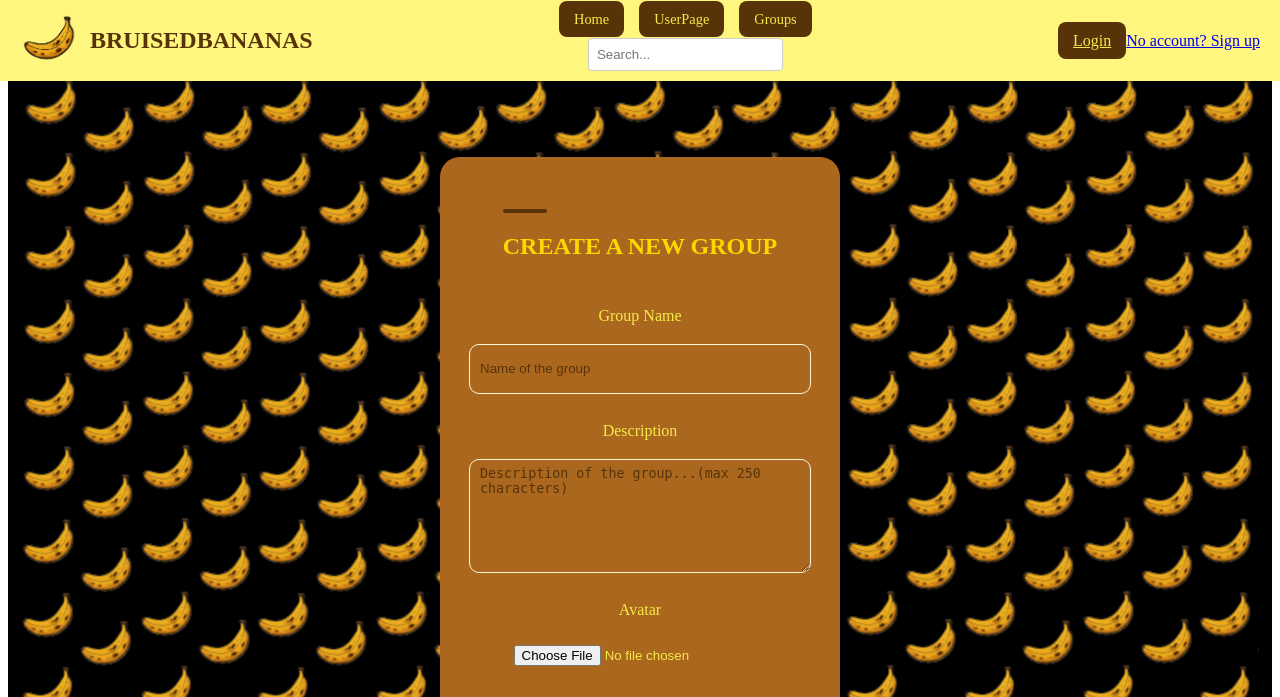
Scenario: CreateGroupPage component › handles fetch error
Step 1. Type "Test Group" into the field with placeholder "Name of the group" → (640, 369), box [469,344,811,394]
(page scrolled)
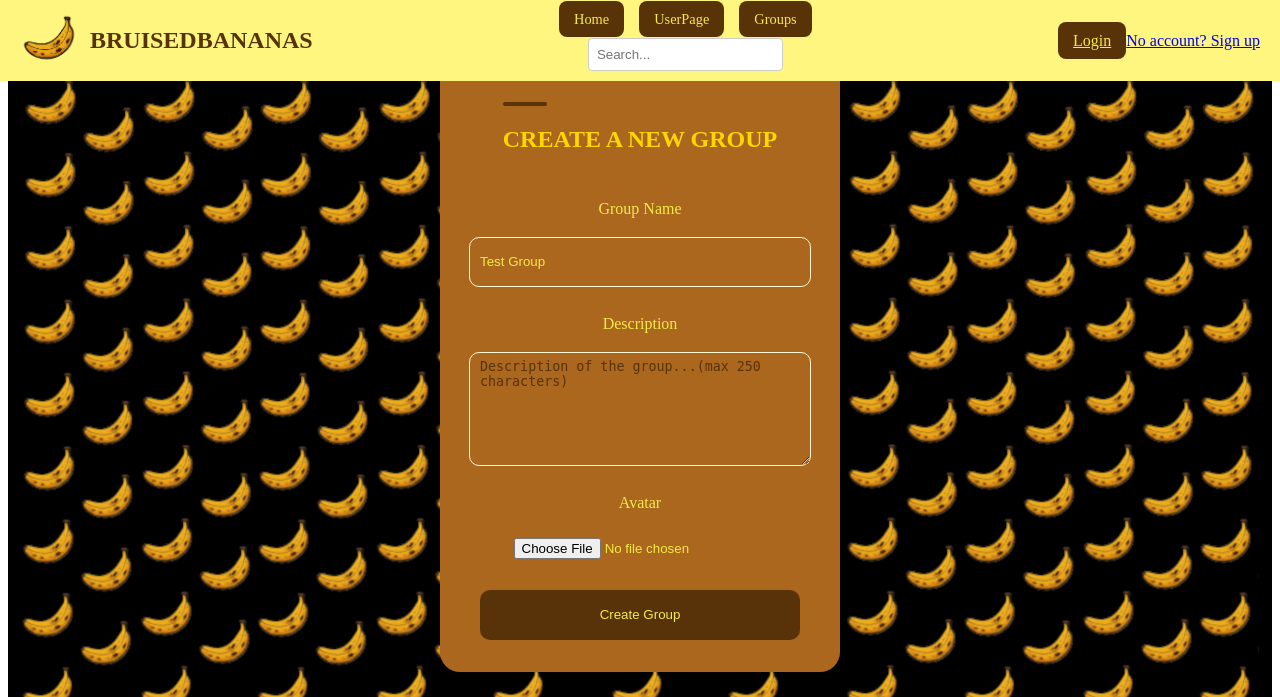
Step 2. Submit the form with class "create-group-form", box [440,50,840,672]
(page scrolled)
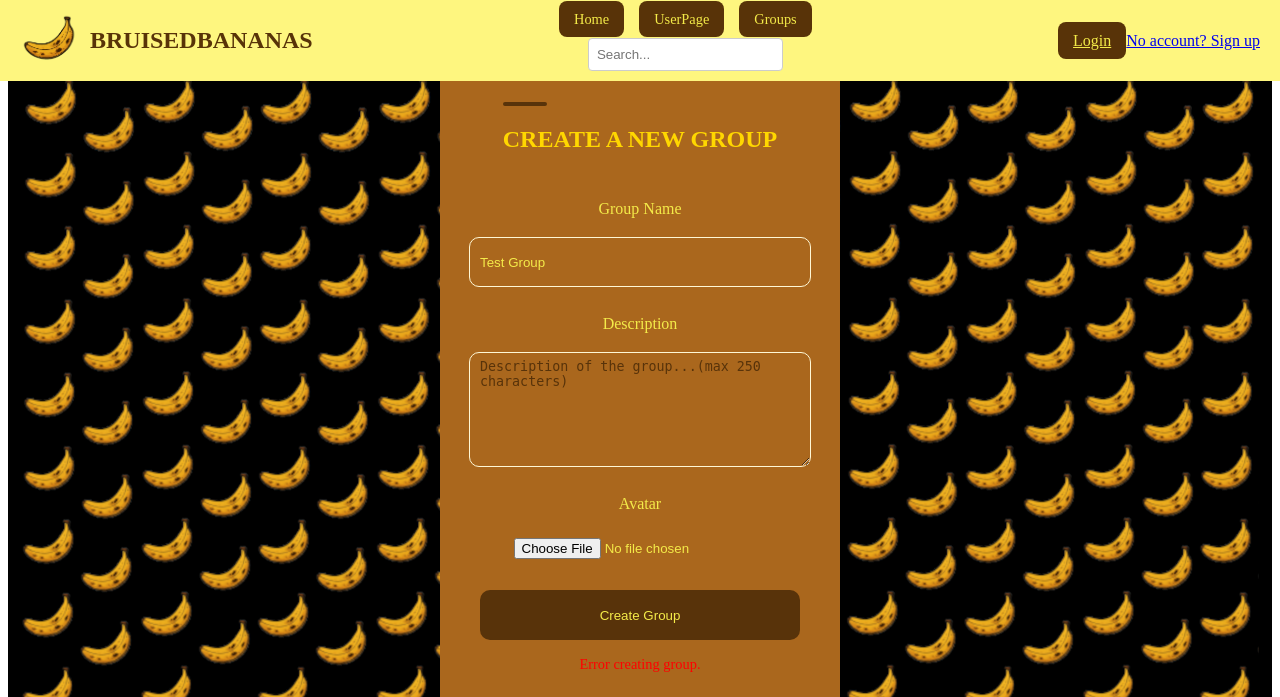
Check: the text "Error creating group." is shown, box [580,656,701,673]
